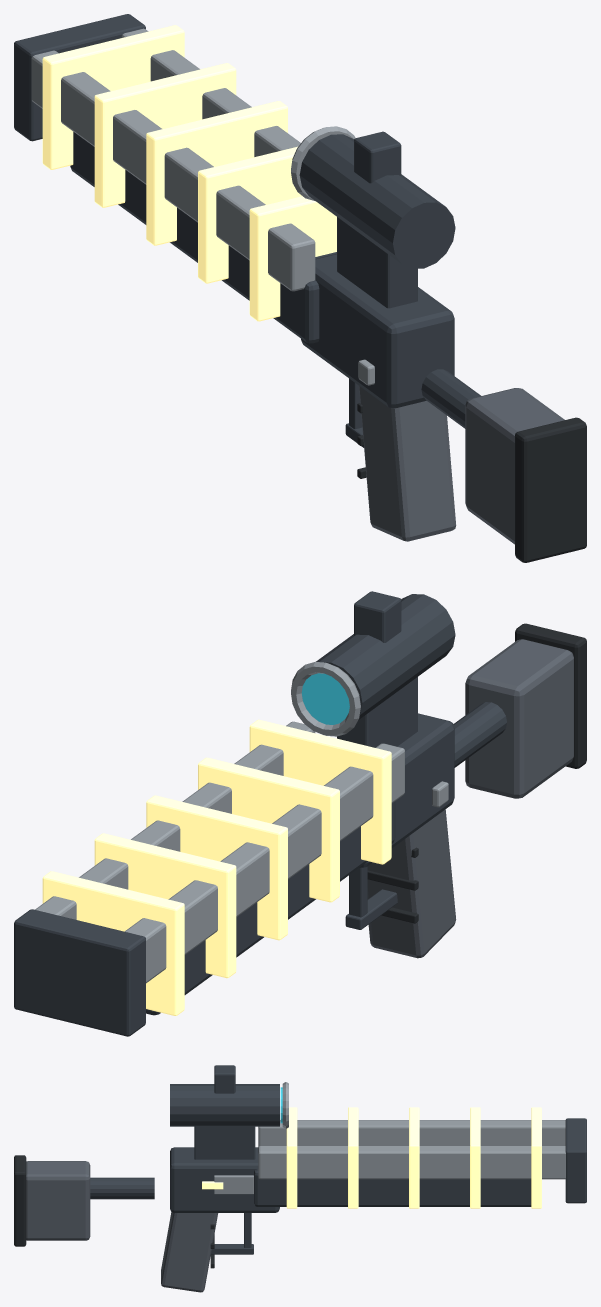
Rendered from riel.glb.
The picture shows the model from 3 angles, top to bottom: view 1: azimuth 30°, elevation 25°; view 2: azimuth 150°, elevation 25°; view 3: azimuth 270°, elevation 25°; orthographic projection. The views are drawn at different scales.
Visible parts, largest first — view 1: Arma_riel; view 2: Arma_riel; view 3: Arma_riel.
Part boxes in pixels (x1,y1,x2,y2): Arma_riel: (14,14,586,562); Arma_riel: (14,591,586,1036); Arma_riel: (14,1065,586,1292).
Size of the model in its own units: 0.3 by 0.7827 by 1.87.
